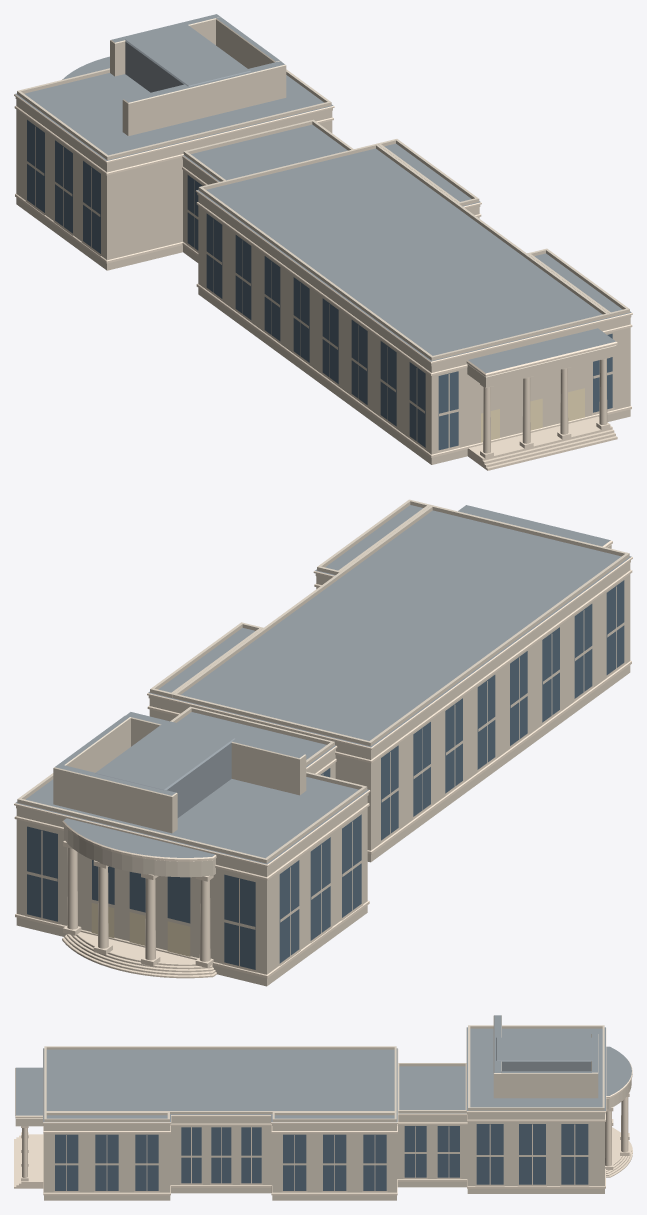
File: dc-au-kogod-school-of-business.glb
3 views of the same model, one above another, from view 1: azimuth 30°, elevation 25°; view 2: azimuth 150°, elevation 25°; view 3: azimuth 270°, elevation 25° (orthographic). The views are drawn at different scales.
Visible parts, largest first — view 1: Kogod School of Business; view 2: Kogod School of Business; view 3: Kogod School of Business.
Boxes of the visible parts, x1,y1,x2,y2 form: Kogod School of Business: [14, 14, 632, 470]; Kogod School of Business: [14, 499, 632, 986]; Kogod School of Business: [14, 1015, 632, 1200].
Size of the model in its own units: 27.93 by 15.86 by 80.46.
